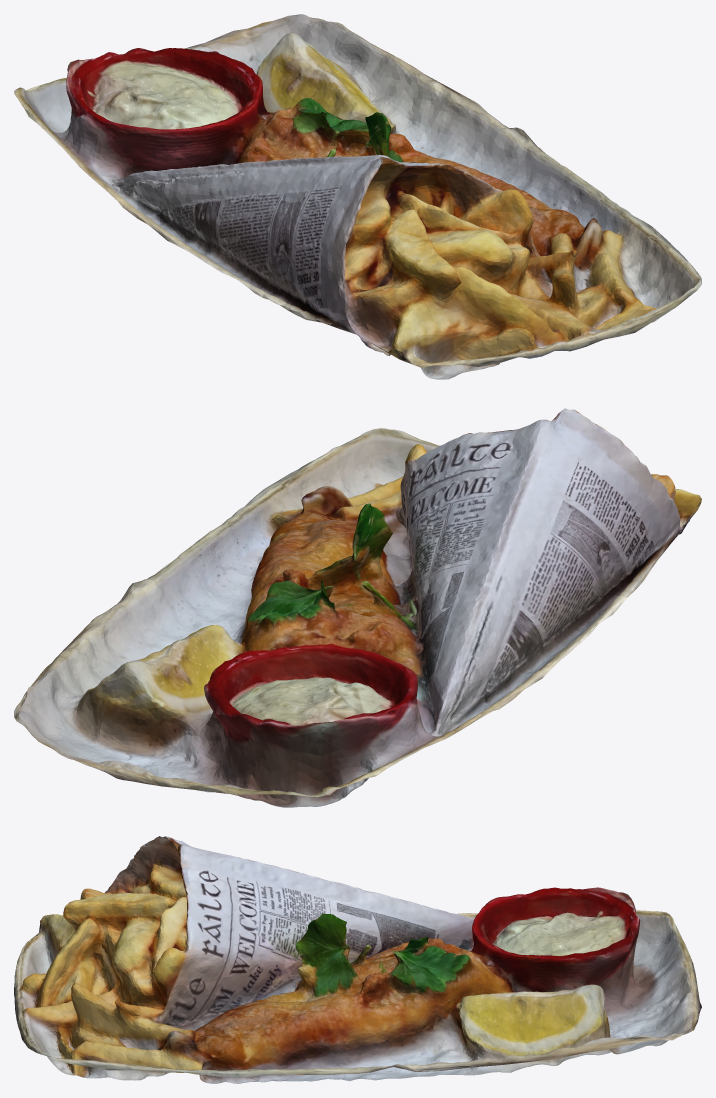
Rendered from chicken_fries.glb.
3 renders of one model, top to bottom at view 1: azimuth 30°, elevation 25°; view 2: azimuth 150°, elevation 25°; view 3: azimuth 270°, elevation 25°, orthographic. The views are drawn at different scales.
Bounding box in the file's own units: 0.636 × 0.2837 × 1.17.
1 material, 1 textured.
